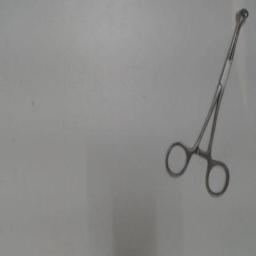Babcock Tissue Forceps: (164, 4, 250, 202)
